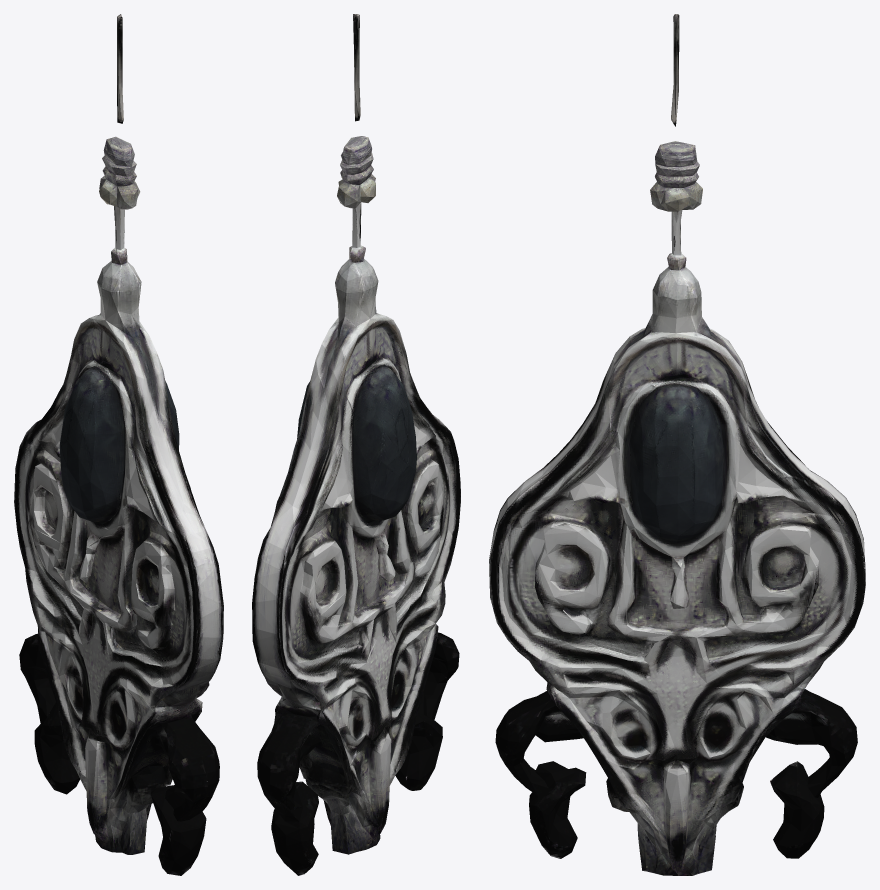
Rendered from syrga.glb.
3 views of the same model, side by side, from view 1: azimuth 30°, elevation 25°; view 2: azimuth 150°, elevation 25°; view 3: azimuth 270°, elevation 25° (orthographic). The views are drawn at different scales.
Visible parts, largest first — view 1: world; view 2: world; view 3: world.
Part boxes in pixels (x1=…): world: x1=14, y1=14, x2=223, y2=875; world: x1=252, y1=14, x2=460, y2=875; world: x1=489, y1=14, x2=865, y2=875.
Bounding box in the file's own units: 0.1322 × 0.9921 × 0.3964.
Materials: 1 (1 with a texture image).
